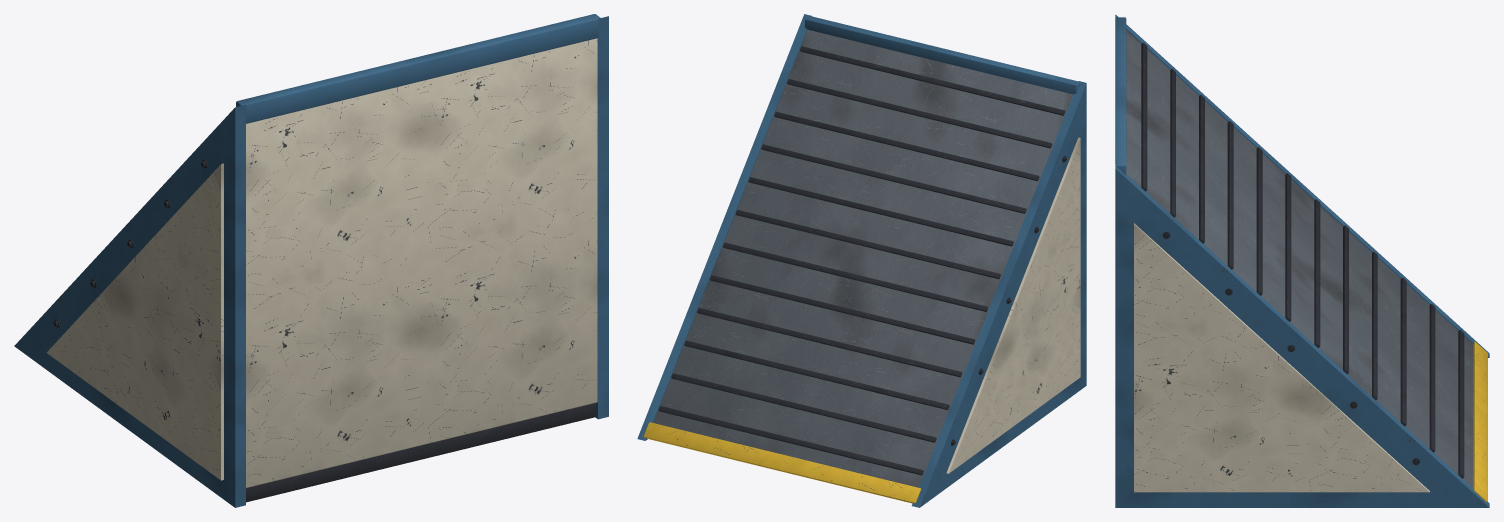
The model's file is ramp_block.glb.
3 renders of one model, left to right at view 1: azimuth 30°, elevation 25°; view 2: azimuth 150°, elevation 25°; view 3: azimuth 270°, elevation 25°, orthographic. The views are drawn at different scales.
Parts seen in each view (by area): view 1: RampBlockMesh; view 2: RampBlockMesh; view 3: RampBlockMesh.
Part boxes in pixels (x1,y1,x2,y2): RampBlockMesh: (14,14,608,507); RampBlockMesh: (637,14,1086,507); RampBlockMesh: (1115,14,1489,507).
Bounding box in the file's own units: 0.992 × 1 × 1.
5 materials, 5 textured.
